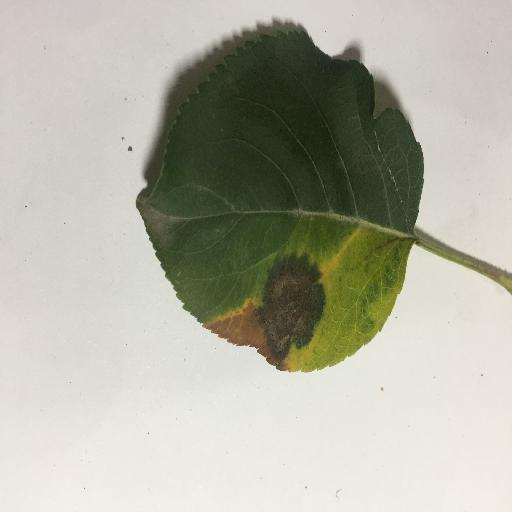Brown_Spot: (252, 249, 336, 364)
